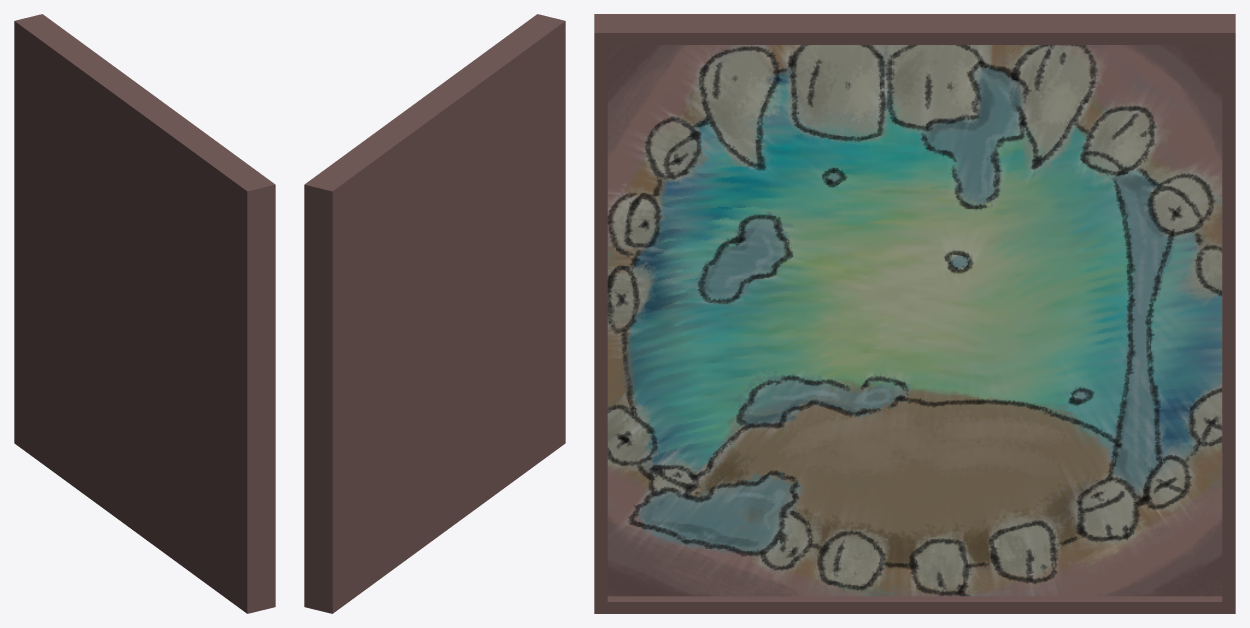
Rendered from mouth.fbx.
The picture shows the model from 3 angles, left to right: view 1: azimuth 30°, elevation 25°; view 2: azimuth 150°, elevation 25°; view 3: azimuth 270°, elevation 25°; orthographic projection. The views are drawn at different scales.
Parts seen in each view (by area): view 1: Cube; view 2: Cube; view 3: Cube.
Boxes of the visible parts, x1,y1,x2,y2 form: Cube: (14,14,275,613); Cube: (304,14,565,613); Cube: (594,14,1235,613).
Bounding box in the file's own units: 68.2 × 977 × 977.
